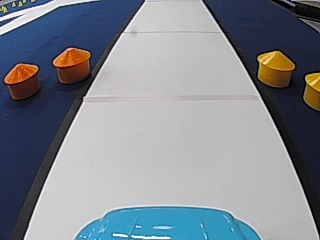granary: (50, 44, 92, 83), (255, 48, 296, 87), (3, 60, 40, 99), (301, 70, 320, 109)
